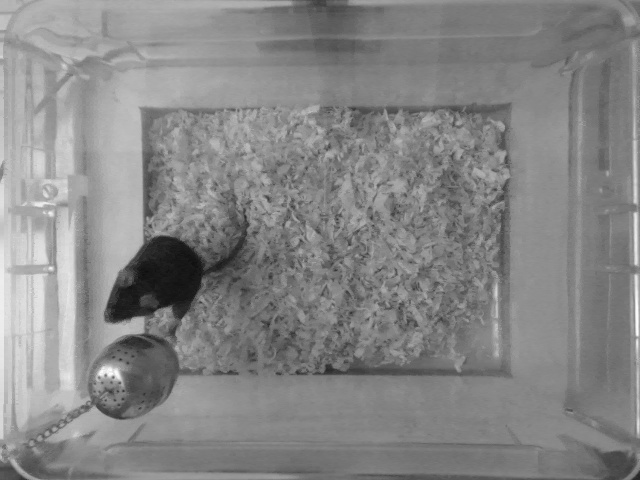mice: (106, 193, 251, 326)
